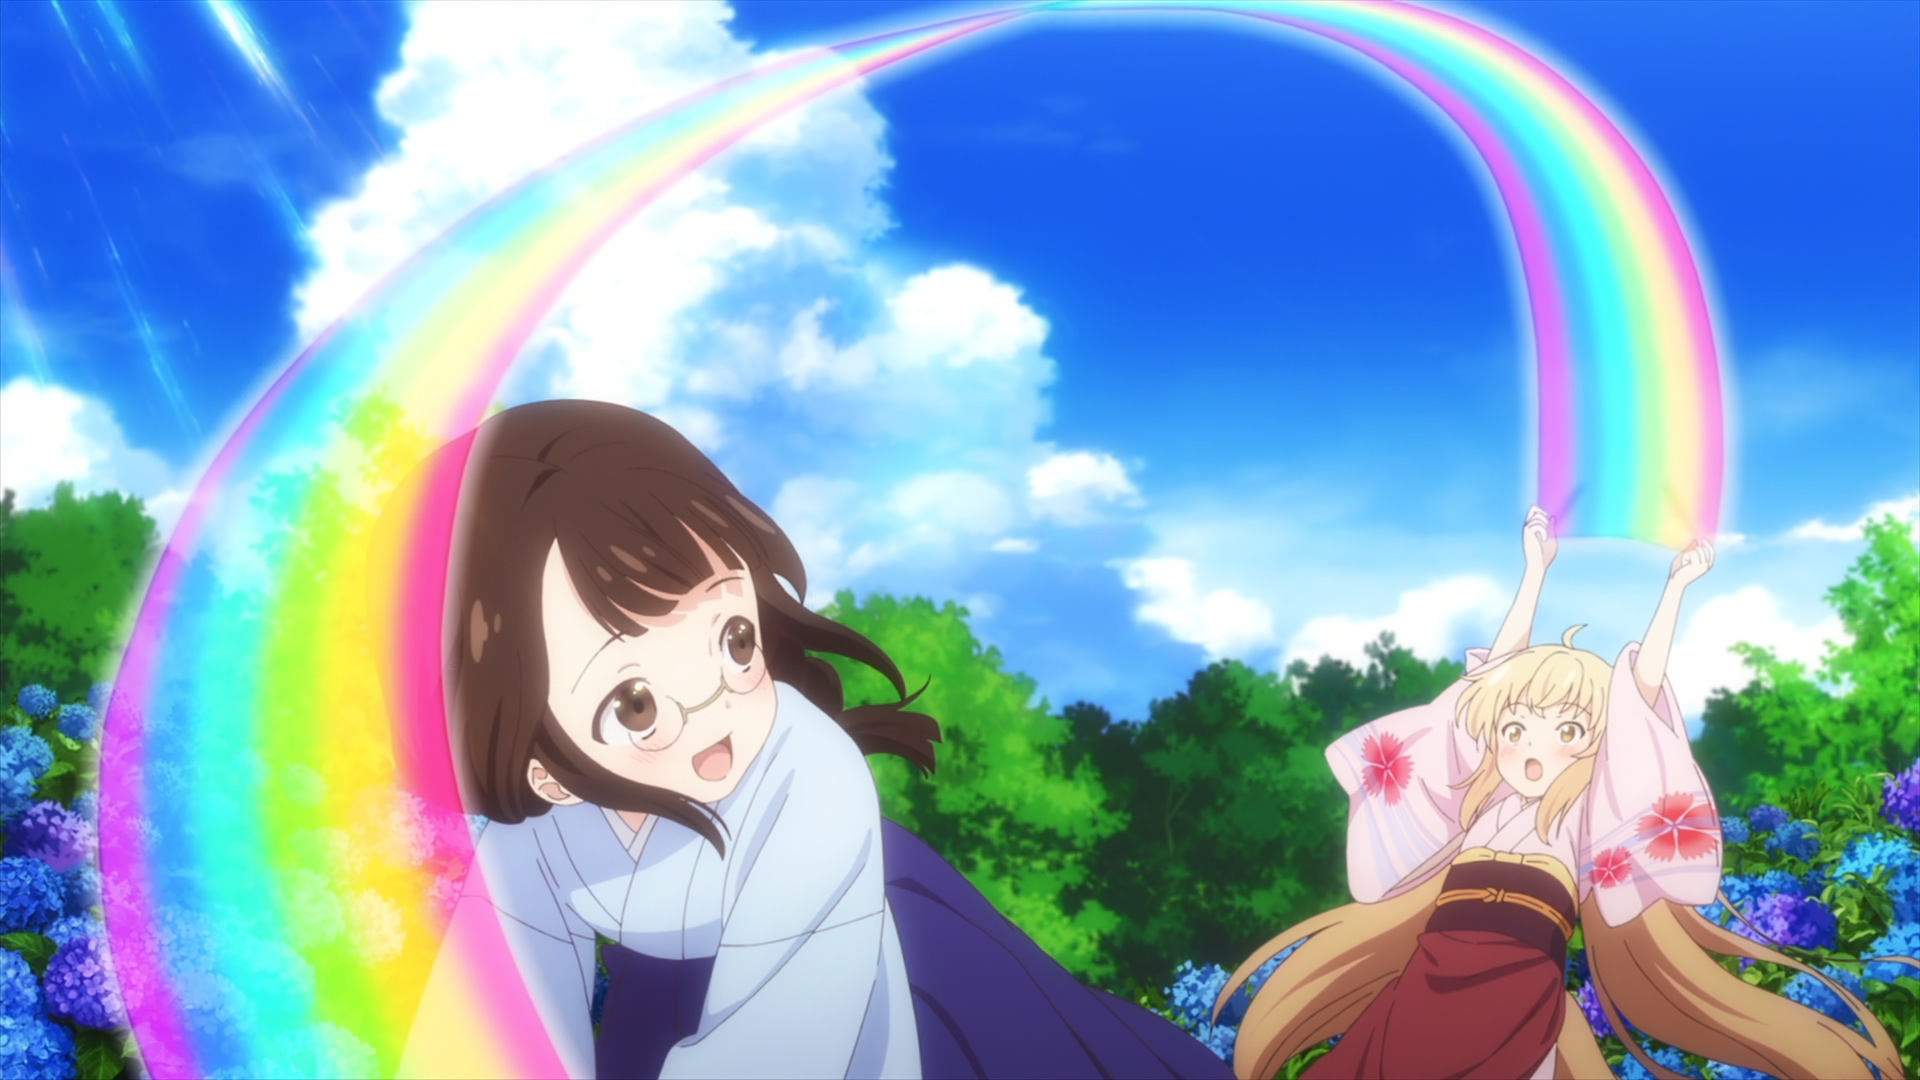其他: (369, 400, 1233, 1080)
柚: (1212, 506, 1920, 1080)
